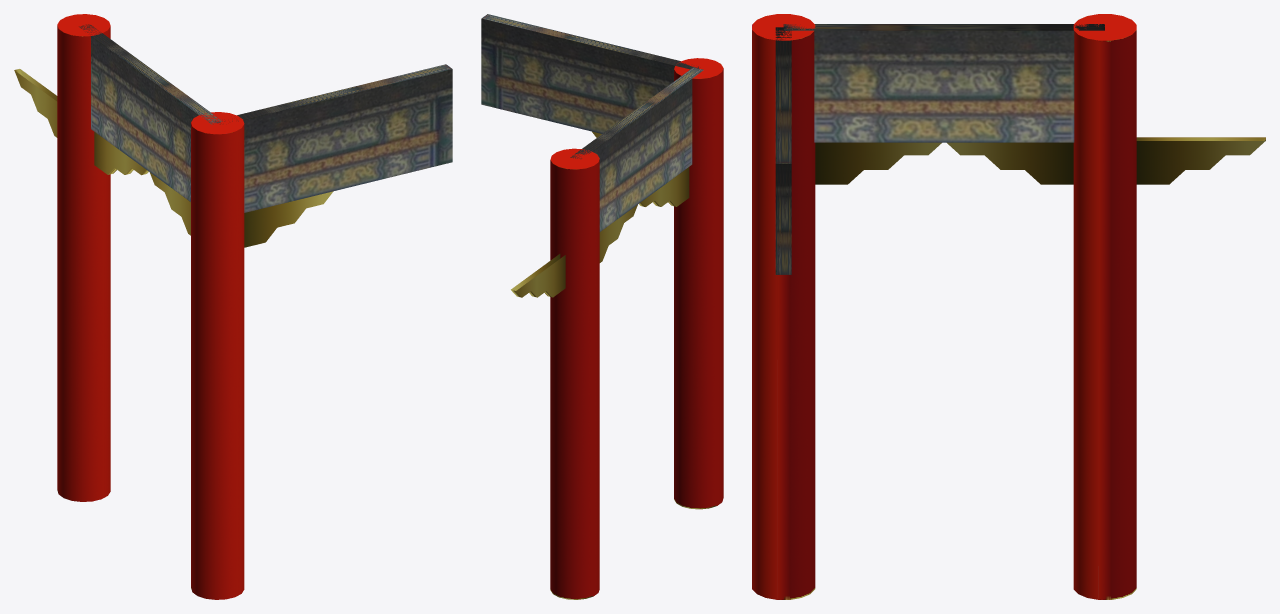
File: corner.dae
3 views of the same model, side by side, from view 1: azimuth 30°, elevation 25°; view 2: azimuth 150°, elevation 25°; view 3: azimuth 270°, elevation 25° (orthographic). The views are drawn at different scales.
Visible parts, largest first — view 1: MainNode; view 2: MainNode; view 3: MainNode.
Part boxes in pixels (<box>): MainNode: <box>14,14,452,599</box>; MainNode: <box>481,14,723,599</box>; MainNode: <box>752,14,1265,599</box>.
Size of the model in its own units: 2.75 by 4.8 by 4.
Materials: 1 (1 with a texture image).
